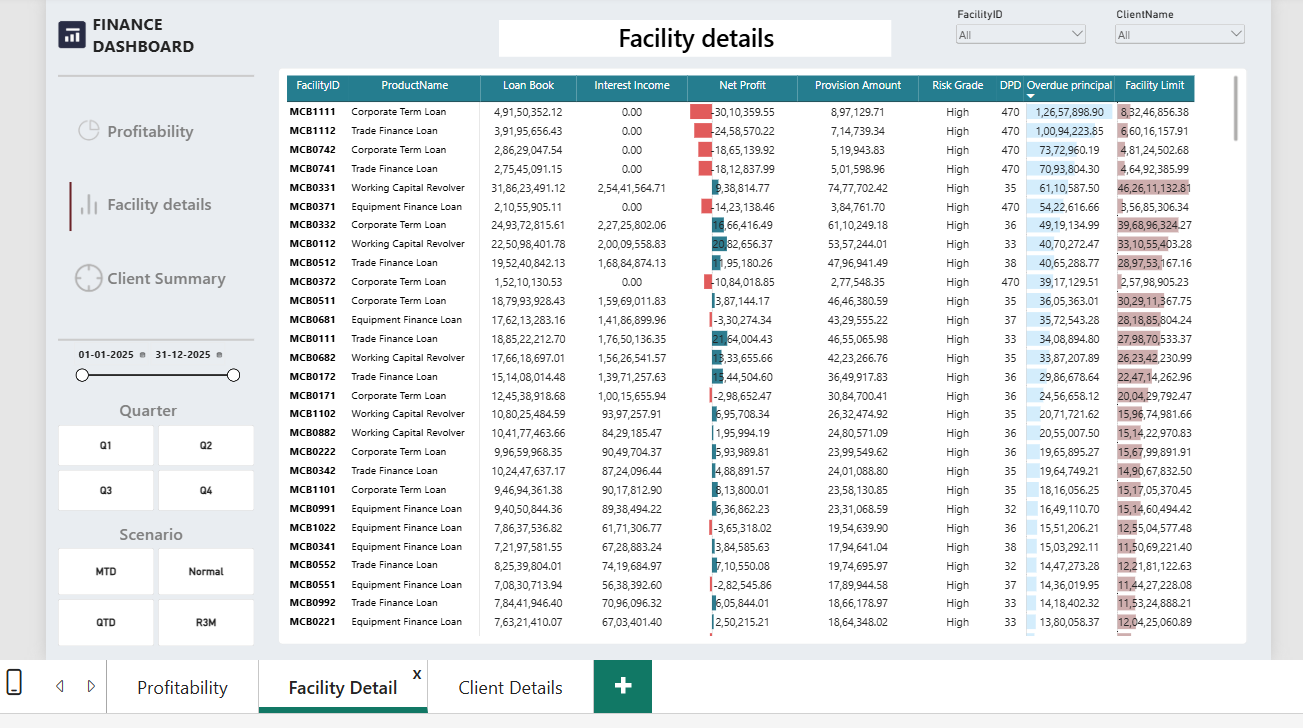

This screenshot's page, from the dashboard's own definition file:
{"tool":"powerbi","page":{"name":"Facility Detail","canvas":[2400,1300],"ordinal":1},"visuals":[{"type":"image","box":[0,24,102,105],"z":0},{"type":"textbox","box":[92,32,223,113],"z":1000},{"type":"shape","box":[24,120,384,72],"z":2000},{"type":"shape","box":[24,648,384,48],"z":3000},{"type":"textbox","box":[120,240,216,48],"z":4000},{"type":"textbox","box":[120,384,288,48],"z":5000},{"type":"textbox","box":[144,1032,144,48],"z":6000},{"type":"image","box":[0,192,168,144],"z":7000},{"type":"image","box":[0,336,168,144],"z":8000},{"type":"image","box":[0,480,168,144],"z":9000},{"type":"shape","box":[0,363,96,96],"z":10000},{"type":"advancedSlicerVisual","fields":{"Values":["Calculation group.Time Period"]},"box":[24,1080,384,192],"z":11000},{"type":"textbox","box":[120,528,264,48],"z":12000},{"type":"textbox","box":[144,787,144,48],"z":13000},{"type":"advancedSlicerVisual","fields":{"Values":["Date_dim.Quarter"]},"box":[24,840,384,168],"z":14000},{"type":"shape","box":[888,48,768,72],"z":15000},{"type":"textbox","box":[936,48,672,72],"z":16000},{"type":"slicer","fields":{"Values":["Fact_Banking_Monthly.FacilityID"]},"box":[1776,24,264,96],"z":17000},{"type":"slicer","fields":{"Values":["Dim_Client.ClientName"]},"box":[2088,24,264,96],"z":18000},{"type":"pivotTable","fields":{"Rows":["Fact_Banking_Monthly.FacilityID","Dim_Product.ProductName"],"Values":["Z_Measures.Loan Book 1","Z_Measures.Interest Income","Z_Measures.Net Profit","Z_Measures.Provision Amount","Z_Measures.Current Risk Grade","Z_Measures.Current days past due","Z_Measures.Current overdue principal","Z_Measures.Current Facility Limit"]},"box":[456,139.5,1896,1128],"z":19000},{"type":"slicer","fields":{"Values":["Date_dim.Date"]},"box":[48,672,336,120],"z":20000}]}

Visuals, with their boxes on the page's 2400x1300 design canvas (x1, y1, x2, y2). These are canvas units, not pixel positions in the 1303x728 screenshot, which may show the page scaled, cropped or inside an application window:
image: <bbox>0, 24, 102, 129</bbox>
textbox: <bbox>92, 32, 315, 145</bbox>
shape: <bbox>24, 120, 408, 192</bbox>
shape: <bbox>24, 648, 408, 696</bbox>
textbox: <bbox>120, 240, 336, 288</bbox>
textbox: <bbox>120, 384, 408, 432</bbox>
textbox: <bbox>144, 1032, 288, 1080</bbox>
image: <bbox>0, 192, 168, 336</bbox>
image: <bbox>0, 336, 168, 480</bbox>
image: <bbox>0, 480, 168, 624</bbox>
shape: <bbox>0, 363, 96, 459</bbox>
advancedSlicerVisual - Calculation group.Time Period: <bbox>24, 1080, 408, 1272</bbox>
textbox: <bbox>120, 528, 384, 576</bbox>
textbox: <bbox>144, 787, 288, 835</bbox>
advancedSlicerVisual - Date_dim.Quarter: <bbox>24, 840, 408, 1008</bbox>
shape: <bbox>888, 48, 1656, 120</bbox>
textbox: <bbox>936, 48, 1608, 120</bbox>
slicer - Fact_Banking_Monthly.FacilityID: <bbox>1776, 24, 2040, 120</bbox>
slicer - Dim_Client.ClientName: <bbox>2088, 24, 2352, 120</bbox>
pivotTable - Fact_Banking_Monthly.FacilityID x Dim_Product.ProductName: <bbox>456, 140, 2352, 1268</bbox>
slicer - Date_dim.Date: <bbox>48, 672, 384, 792</bbox>
